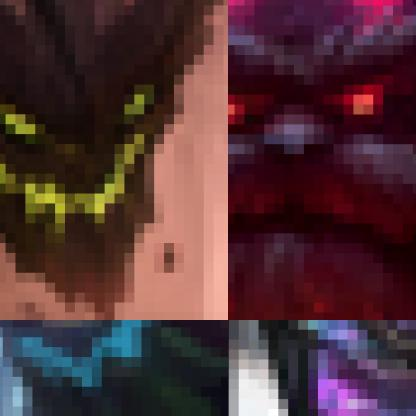Dr. Mundo: (228, 320, 415, 415)
Malphite: (0, 0, 227, 319)
Maokai: (0, 320, 227, 415)
Ornn: (228, 0, 415, 319)
